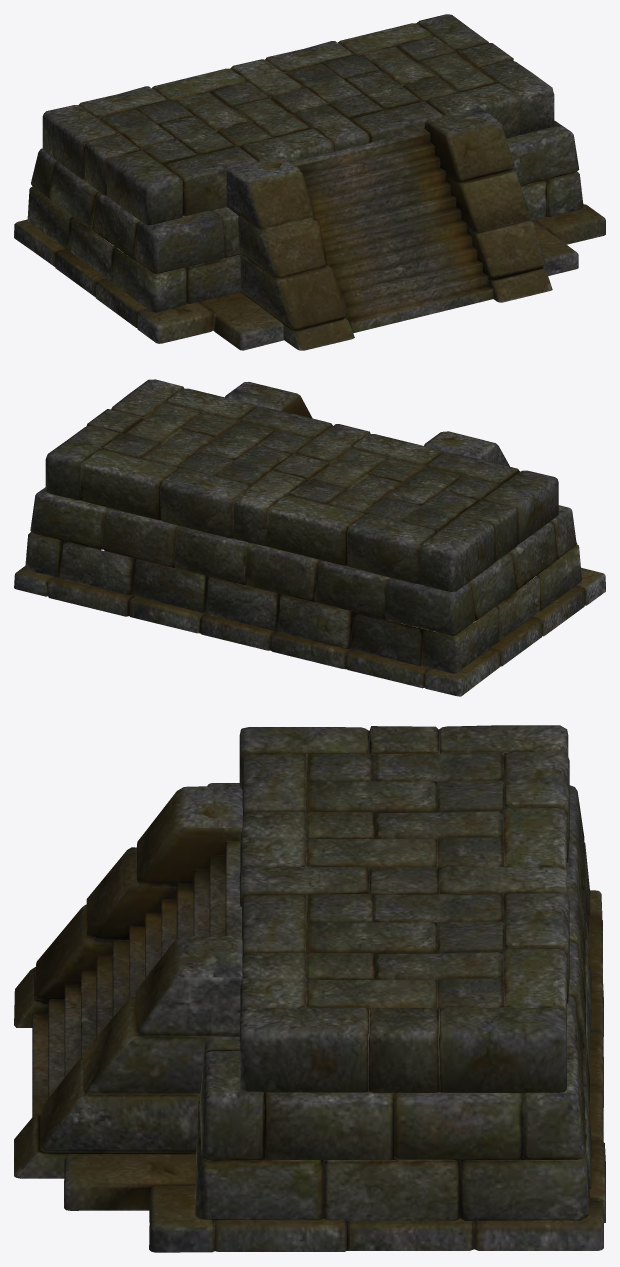
The model's file is stone-foundation.lod0.glb.
The picture shows the model from 3 angles, top to bottom: view 1: azimuth 30°, elevation 25°; view 2: azimuth 150°, elevation 25°; view 3: azimuth 270°, elevation 25°; orthographic projection. The views are drawn at different scales.
Parts seen in each view (by area): view 1: Object_2; view 2: Object_2; view 3: Object_2.
Part boxes in pixels (box(x1,y1,x2,y2)): Object_2: box(14, 14, 605, 350); Object_2: box(14, 379, 605, 696); Object_2: box(14, 725, 605, 1252).
Size of the model in its own units: 9 by 2.52 by 6.61.
Materials: 1 (1 with a texture image).
